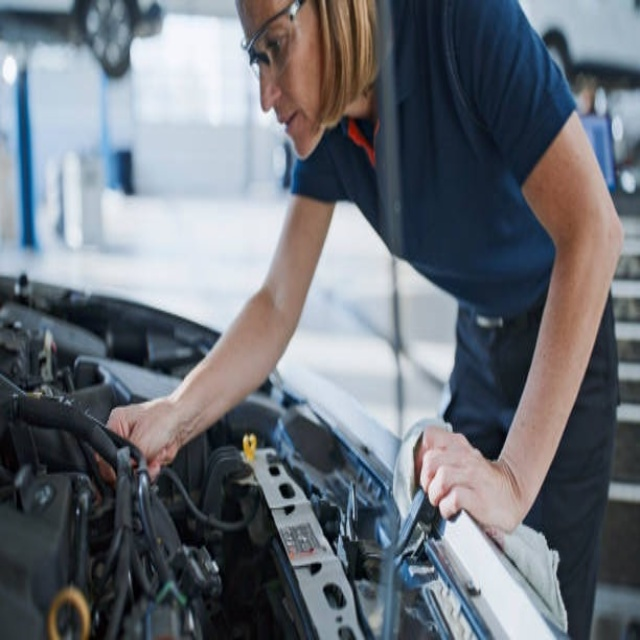Gafas: (238, 0, 312, 77)
Sin_guantes: (412, 425, 510, 536), (101, 394, 188, 486)
Sin_mascara: (273, 102, 311, 158)
